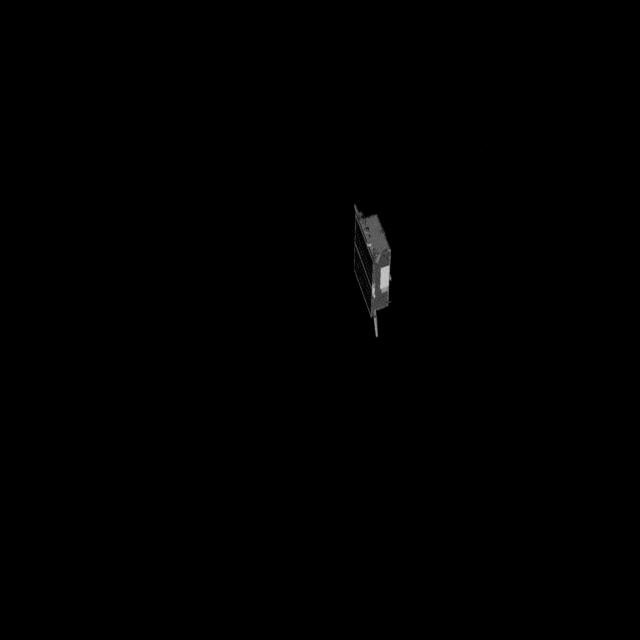satellite: (348, 194, 402, 342)
